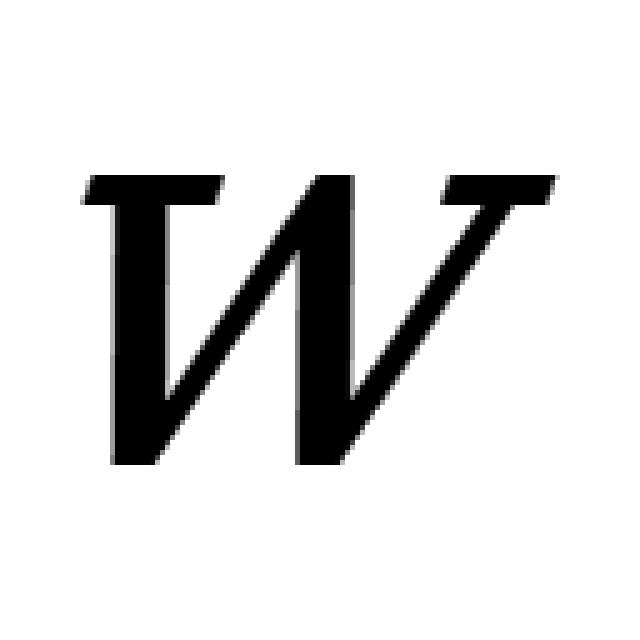W: (70, 155, 560, 470)
